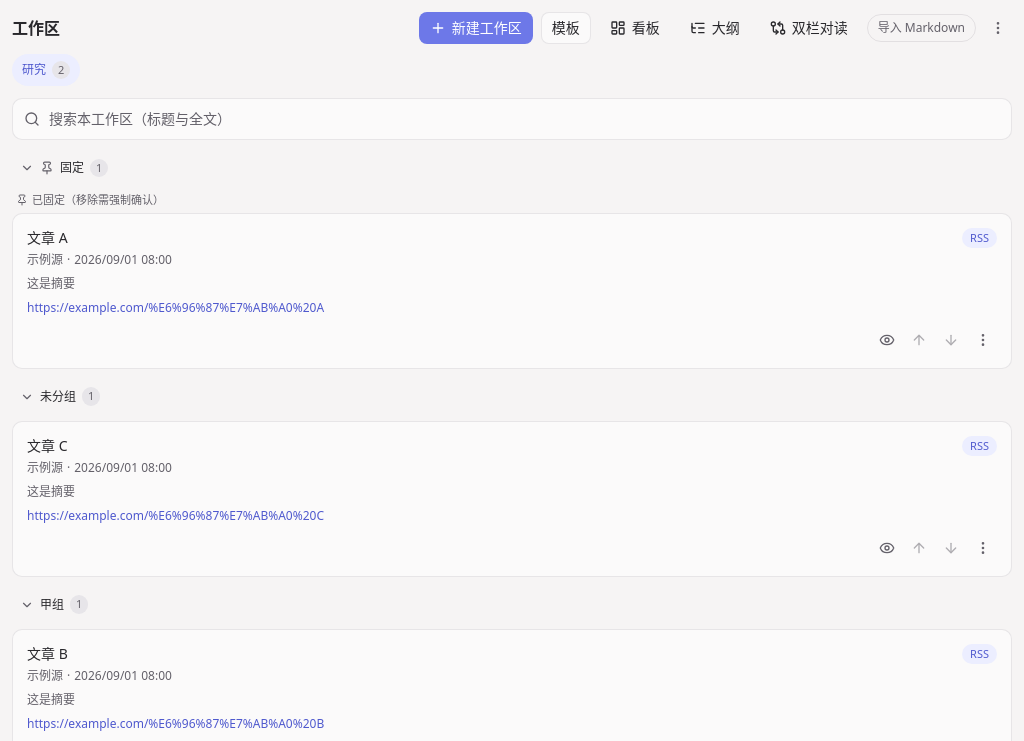
Scenario: N103 临时预览 › 提升：成员不渲染「添加到工作区」（幂等入口，UI 不提供重复添加）
The width and height of the screenshot is (1024, 741).
Click the 1st button named "预览".
click(887, 340)  # box [873,326,901,354]
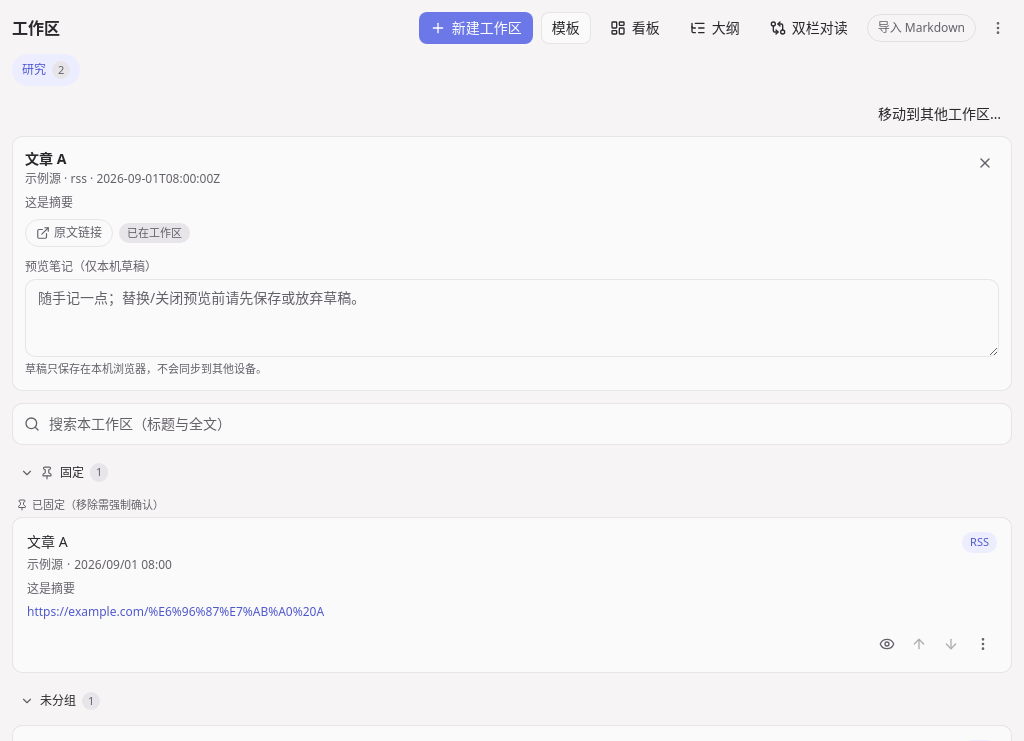
Result: the text "已在工作区" is shown at [119,223,190,243]
